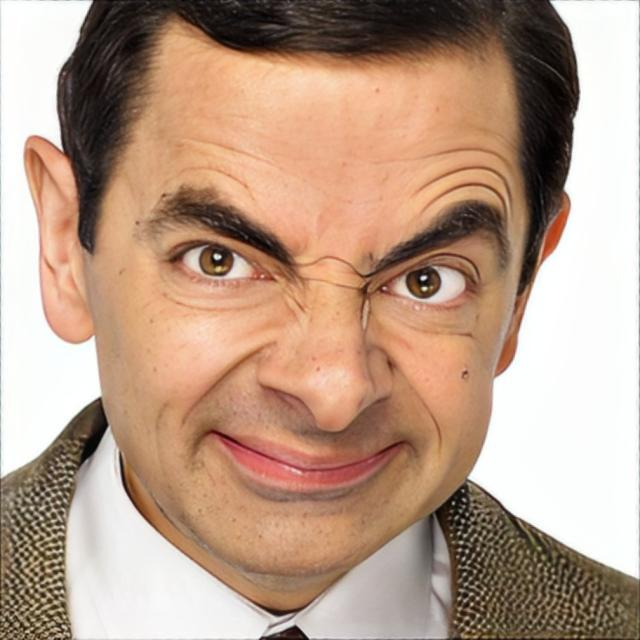disgust: (87, 3, 532, 584)
